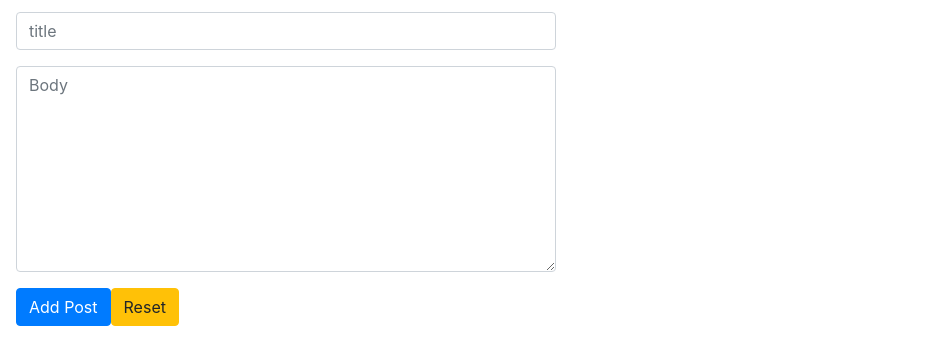
Test: show that a new post was created on create Post click
Type "chuck norris" into the field with placeholder "title". click: coordinates (286, 31)
box: [16,12,556,50]
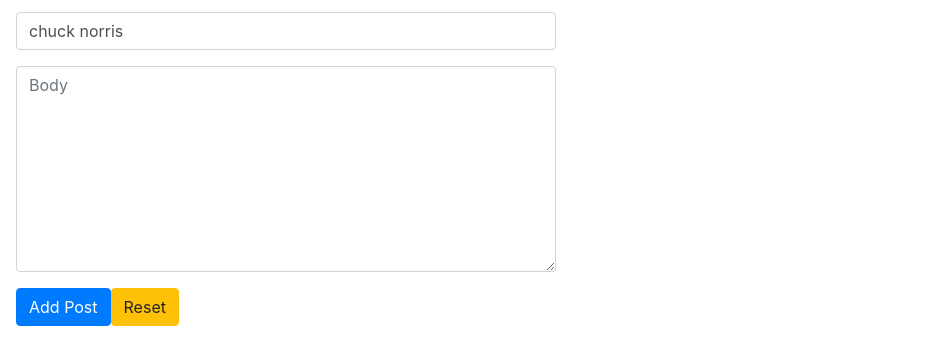
Type "hey there, this is the body" into the text box with placeholder "Body". click: coordinates (286, 169)
box: [16,66,556,272]
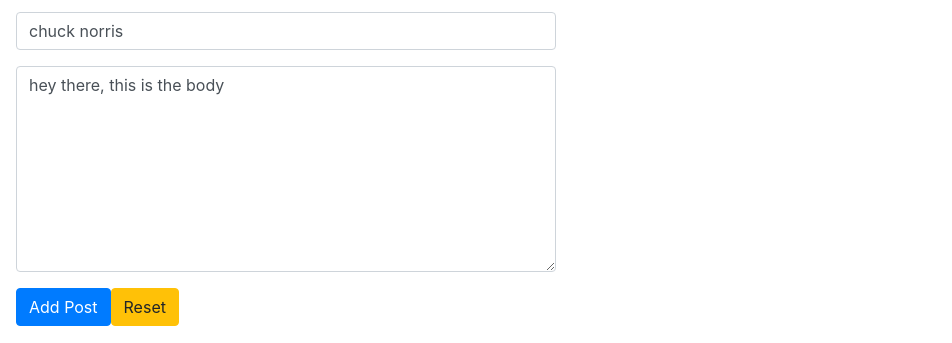
Click the button "Add Post". click: coordinates (63, 307)
box: [16,288,110,326]
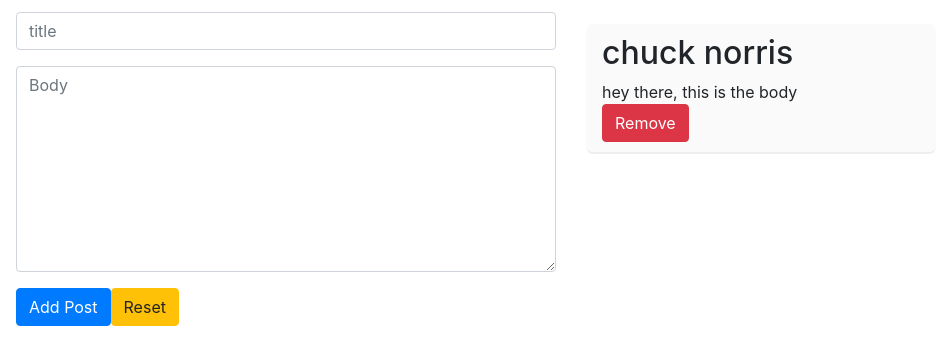
Expected: the text "hey there, this is the body" is shown, [602,82,797,102]
